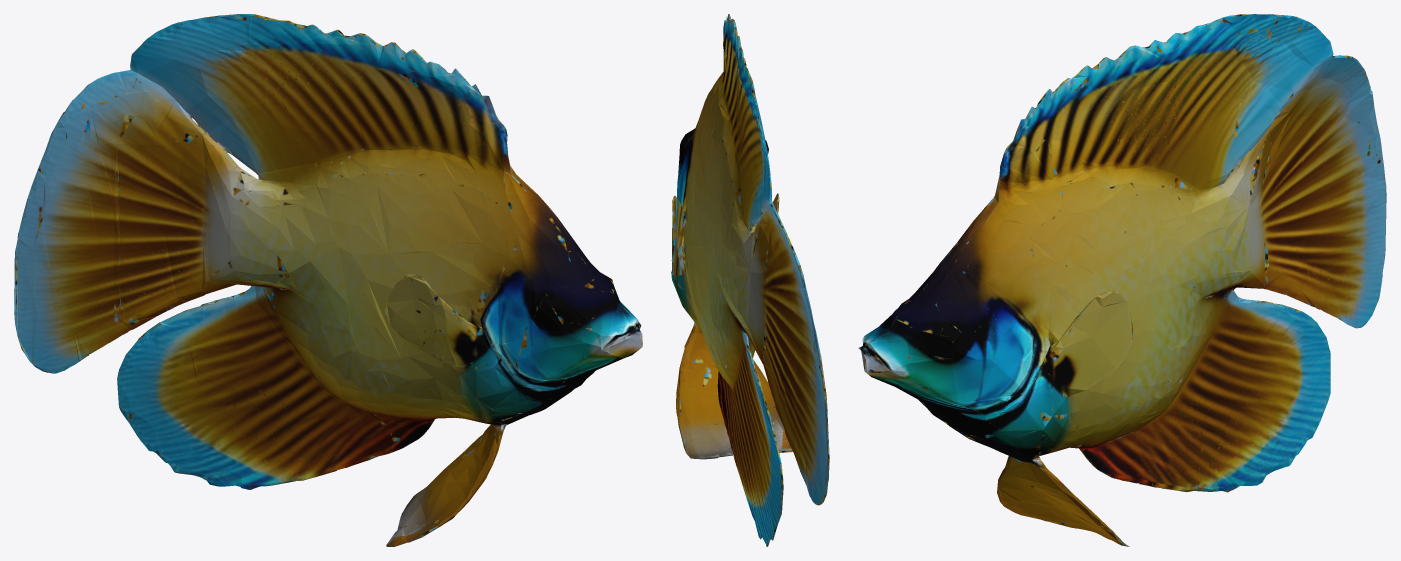
File: fish_0100_smpl23_resized.glb
The picture shows the model from 3 angles, left to right: view 1: azimuth 30°, elevation 25°; view 2: azimuth 150°, elevation 25°; view 3: azimuth 270°, elevation 25°; orthographic projection. The views are drawn at different scales.
Visible parts, largest first — view 1: world; view 2: world; view 3: world.
Boxes of the visible parts, left/top/right/bottom form: world: left=14, top=14, right=642, bottom=546; world: left=671, top=14, right=829, bottom=546; world: left=858, top=14, right=1386, bottom=546.
Bounding box in the file's own units: 1.67 × 1.99 × 1.99.
Materials: 1 (1 with a texture image).
